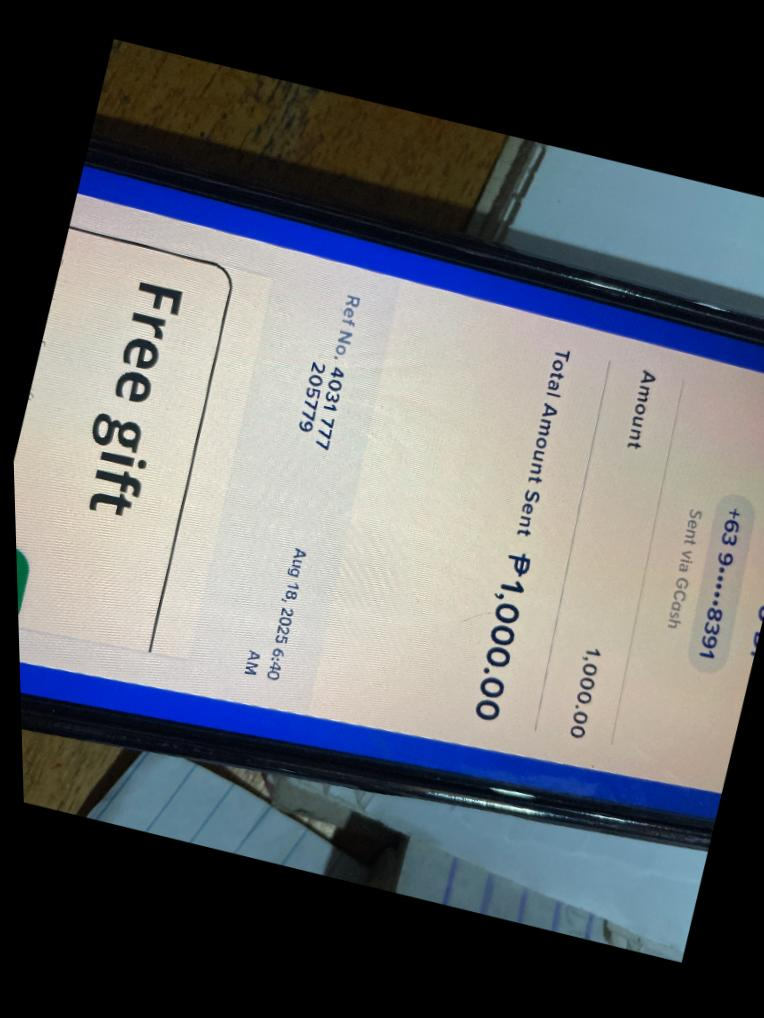Receipt: (14, 178, 764, 831)
